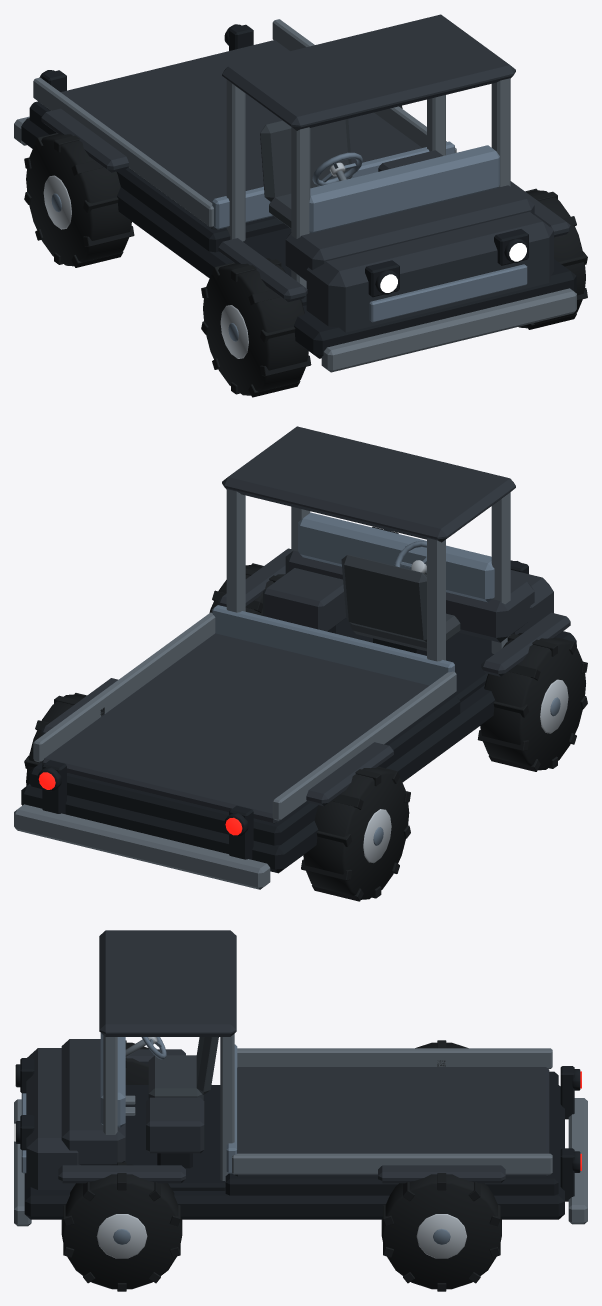
File: ModularFarmBaseVehicle.glb
The picture shows the model from 3 angles, top to bottom: view 1: azimuth 30°, elevation 25°; view 2: azimuth 150°, elevation 25°; view 3: azimuth 270°, elevation 25°; orthographic projection. The views are drawn at different scales.
Visible parts, largest first — view 1: FTF_Vehicle_ModularFarmBase_Black_6_5m_Static, Wheel_FL_Mesh, Wheel_RL_Mesh, Wheel_FR_Mesh, SteeringWheel_Mesh, HeadlampHousing_Left_Mesh, HeadlampHousing_Right_Mesh, RearLampHousing_Right_Mesh; view 2: FTF_Vehicle_ModularFarmBase_Black_6_5m_Static, Wheel_FL_Mesh, Wheel_RL_Mesh, RearLampHousing_Left_Mesh, RearLampHousing_Right_Mesh, Wheel_RR_Mesh, Wheel_FR_Mesh; view 3: FTF_Vehicle_ModularFarmBase_Black_6_5m_Static, Wheel_FR_Mesh, Wheel_RR_Mesh, RearLampHousing_Right_Mesh, RearLampHousing_Left_Mesh, Wheel_FL_Mesh, HeadlampHousing_Left_Mesh, HeadlampHousing_Right_Mesh.
Part boxes in pixels (x1,y1,x2,y2): FTF_Vehicle_ModularFarmBase_Black_6_5m_Static: [14, 14, 576, 372]; Wheel_FL_Mesh: [201, 258, 311, 397]; Wheel_RL_Mesh: [24, 133, 134, 267]; Wheel_FR_Mesh: [518, 188, 587, 329]; SteeringWheel_Mesh: [312, 152, 362, 185]; HeadlampHousing_Left_Mesh: [365, 260, 399, 297]; HeadlampHousing_Right_Mesh: [494, 229, 528, 265]; RearLampHousing_Right_Mesh: [224, 24, 253, 50]; FTF_Vehicle_ModularFarmBase_Black_6_5m_Static: [14, 426, 576, 889]; Wheel_FL_Mesh: [477, 632, 587, 771]; Wheel_RL_Mesh: [301, 766, 410, 901]; RearLampHousing_Left_Mesh: [224, 805, 253, 859]; RearLampHousing_Right_Mesh: [38, 760, 66, 814]; Wheel_RR_Mesh: [24, 693, 104, 785]; Wheel_FR_Mesh: [209, 563, 285, 615]; FTF_Vehicle_ModularFarmBase_Black_6_5m_Static: [14, 930, 587, 1226]; Wheel_FR_Mesh: [61, 1162, 182, 1291]; Wheel_RR_Mesh: [381, 1173, 501, 1291]; RearLampHousing_Right_Mesh: [560, 1148, 580, 1201]; RearLampHousing_Left_Mesh: [560, 1066, 580, 1119]; Wheel_FL_Mesh: [125, 1040, 156, 1084]; HeadlampHousing_Left_Mesh: [15, 1058, 34, 1093]; HeadlampHousing_Right_Mesh: [15, 1115, 34, 1150].
Bounding box in the file's own units: 3.81 × 3.03 × 6.48.
